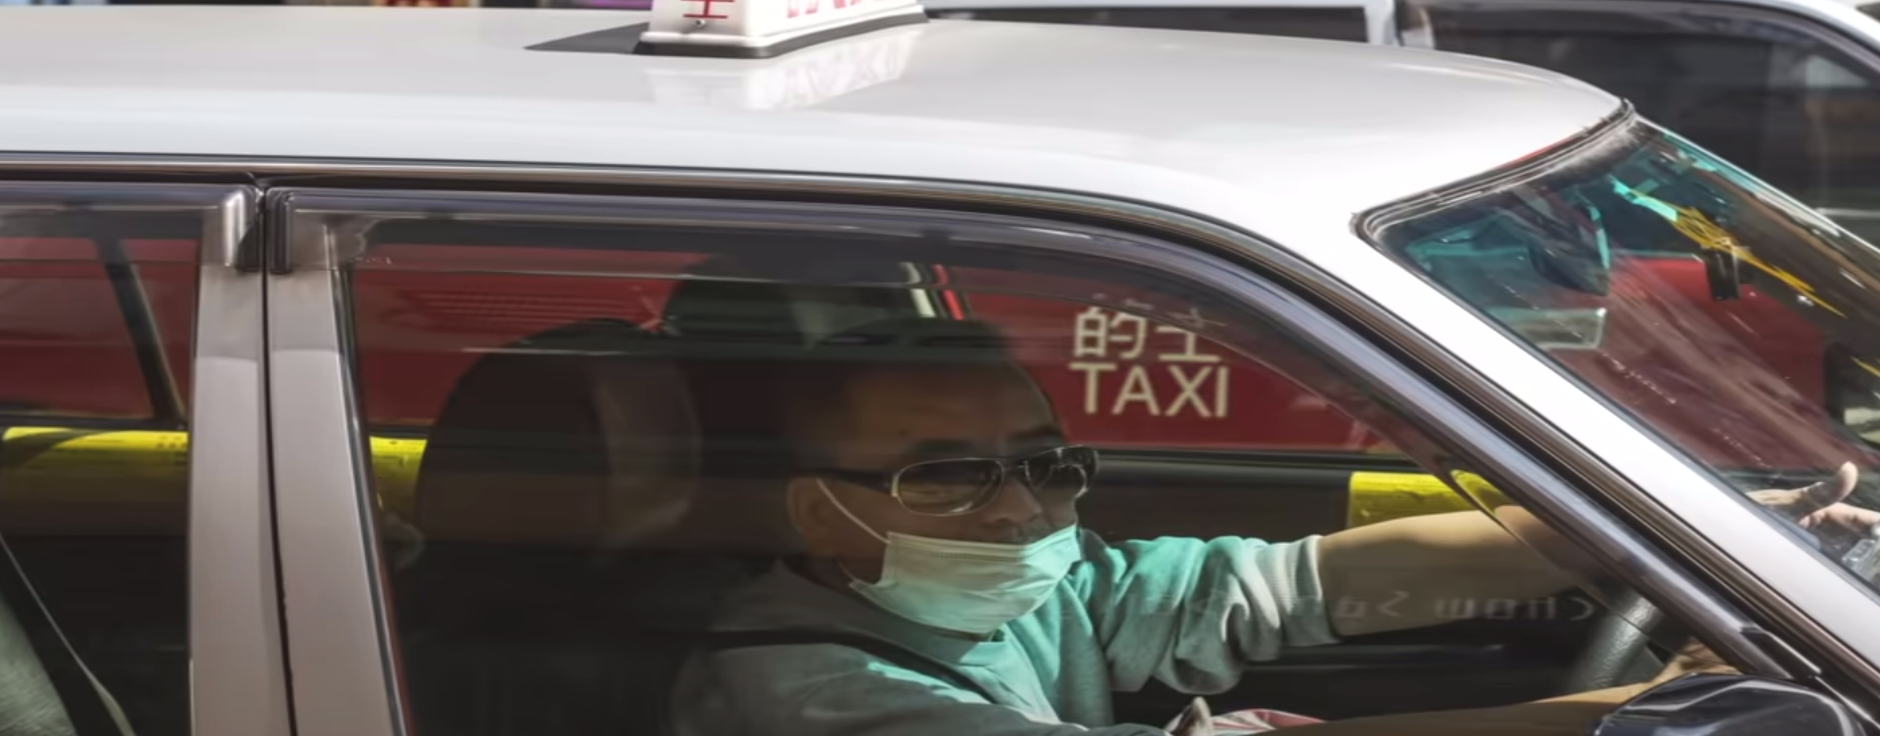mask_weared_incorrect: (748, 322, 1092, 639)
